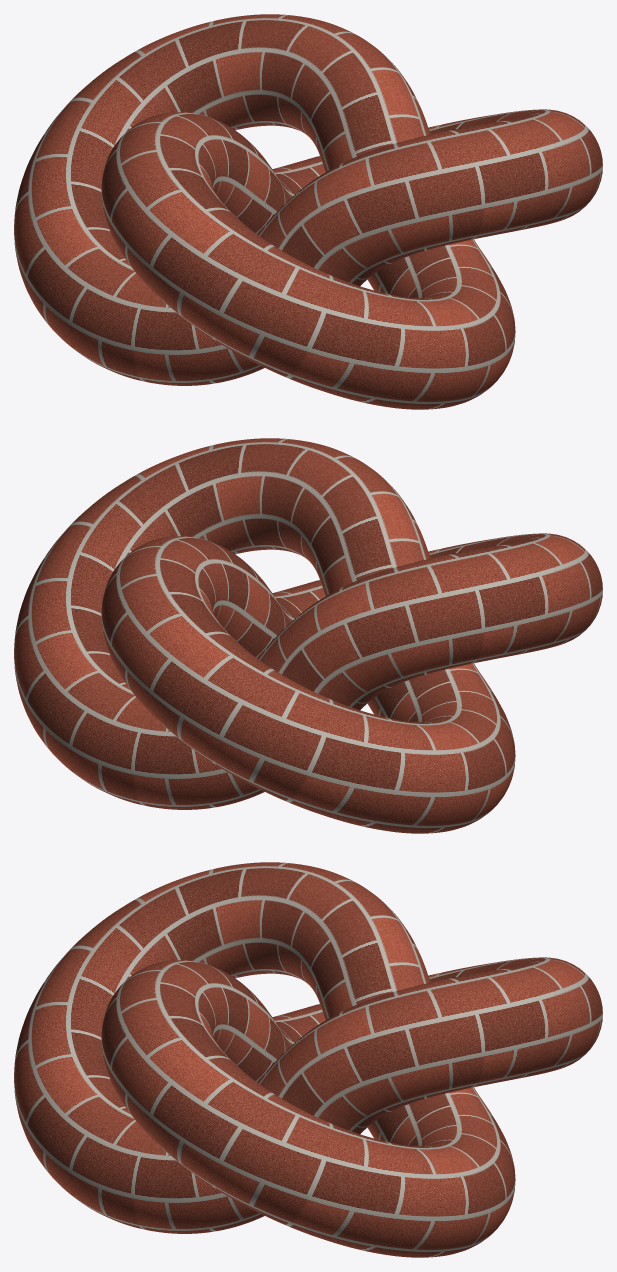
Rendered from demo.glb.
3 renders of one model, top to bottom at view 1: azimuth 30°, elevation 25°; view 2: azimuth 150°, elevation 25°; view 3: azimuth 270°, elevation 25°, orthographic.
Parts seen in each view (by area): view 1: knot; view 2: knot; view 3: knot.
Boxes of the visible parts, x1,y1,x2,y2 form: knot: (14,14,602,409); knot: (14,438,602,833); knot: (14,862,602,1257).
Bounding box in the file's own units: 3.25 × 1.54 × 3.38.
1 material, 1 textured.
